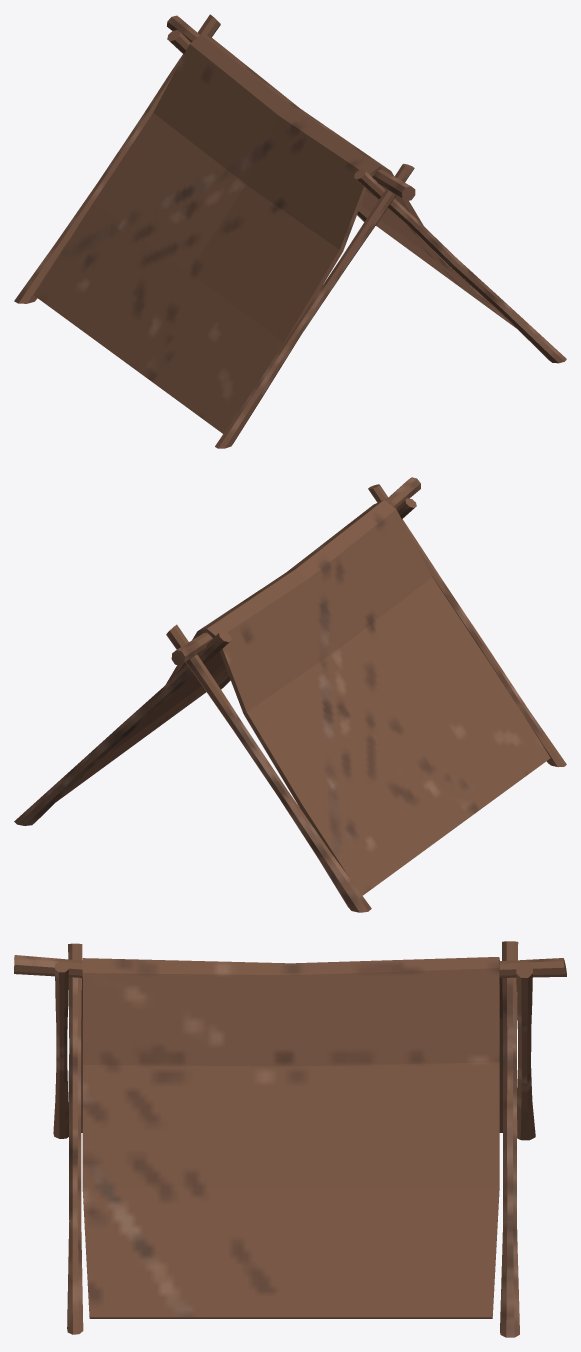
The model's file is Tent.fbx.
The picture shows the model from 3 angles, top to bottom: view 1: azimuth 30°, elevation 25°; view 2: azimuth 150°, elevation 25°; view 3: azimuth 270°, elevation 25°; orthographic projection. The views are drawn at different scales.
Visible parts, largest first — view 1: tent_fabric, wood_backleft, wood_backright, wood_frontright, wood_topwood; view 2: tent_fabric, wood_frontright, wood_frontleft, wood_backleft, wood_topwood; view 3: tent_fabric, wood_frontleft, wood_backright, wood_frontright, wood_backleft, wood_topwood.
Part boxes in pixels (x1,y1,x2,y2): tent_fabric: (34,34,516,433); wood_backleft: (215,163,414,448); wood_backright: (354,169,566,363); wood_frontright: (14,14,220,303); wood_topwood: (167,15,415,201); tent_fabric: (56,500,550,895); wood_frontright: (166,624,371,912); wood_frontleft: (14,631,231,825); wood_backleft: (368,484,566,767); wood_topwood: (171,477,420,665); tent_fabric: (68,957,502,1318); wood_frontleft: (500,941,519,1337); wood_backright: (67,943,83,1334); wood_frontright: (516,961,535,1140); wood_backleft: (53,961,68,1138); wood_topwood: (14,955,566,977).
Size of the model in its own units: 473 by 300 by 535.
Materials: 2 (2 with a texture image).
